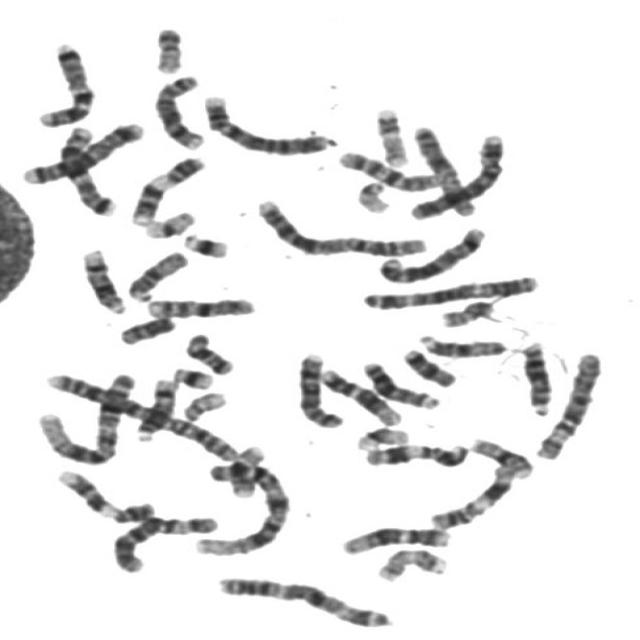A1: (30, 366, 141, 466), (186, 456, 294, 558)
A2: (37, 366, 246, 464), (250, 192, 432, 259)
A3: (208, 569, 396, 630), (353, 268, 542, 311)
B4: (402, 127, 510, 221), (196, 87, 335, 157)
B5: (16, 115, 147, 186), (369, 220, 489, 285)
C10: (330, 144, 445, 193), (138, 290, 258, 320)
C11: (422, 458, 518, 531), (355, 436, 470, 469)
C12: (311, 362, 405, 427), (334, 519, 455, 556)
C6: (527, 344, 606, 460), (104, 507, 221, 575)
C7: (28, 35, 98, 128), (54, 119, 119, 217)
C8: (144, 67, 208, 152), (289, 346, 346, 429)
C9: (122, 148, 209, 227), (49, 463, 159, 525)
D13: (355, 354, 443, 410), (514, 335, 554, 417)
D14: (74, 242, 128, 315), (128, 371, 182, 443)
D15: (120, 244, 190, 302), (412, 327, 508, 359)
E16: (461, 431, 536, 480), (223, 440, 268, 498)
E17: (369, 541, 451, 583), (367, 100, 411, 168)
E18: (394, 342, 460, 388), (178, 326, 236, 375)
F19: (135, 204, 197, 240), (348, 419, 413, 451)
F20: (432, 292, 498, 328), (146, 19, 186, 75)
G21: (175, 226, 232, 259), (164, 360, 217, 390)
G22: (173, 383, 230, 422), (348, 173, 393, 215)
X: (404, 118, 480, 218)
Y: (110, 309, 178, 346)
